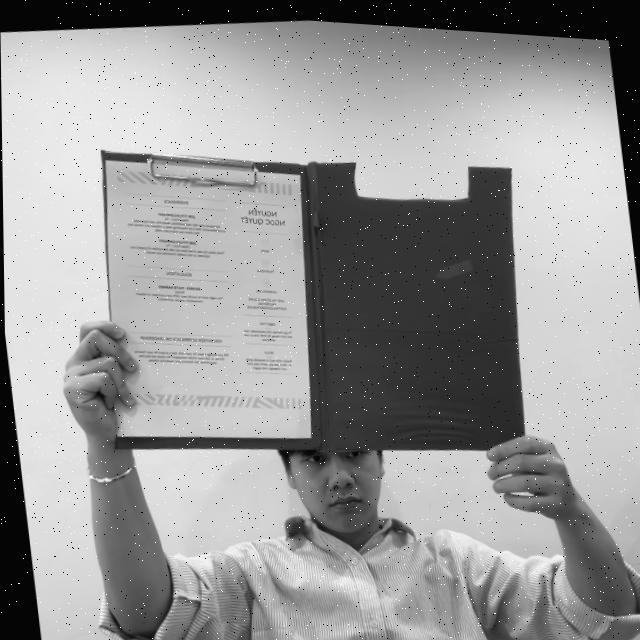document: (105, 160, 310, 438)
face: (274, 440, 404, 538)
